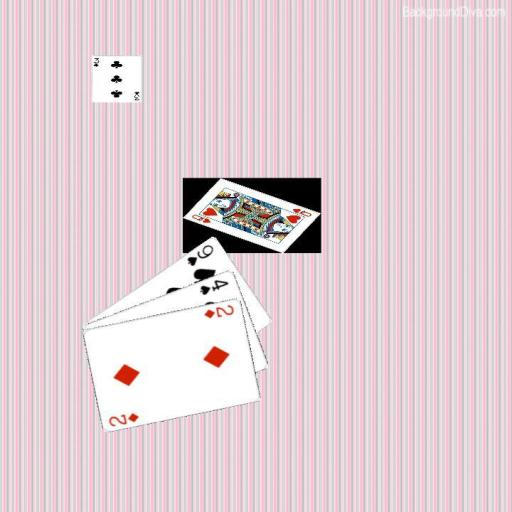2D: (202, 302, 236, 320), (106, 410, 140, 428)
4S: (197, 276, 230, 296)
9S: (184, 241, 215, 267)
